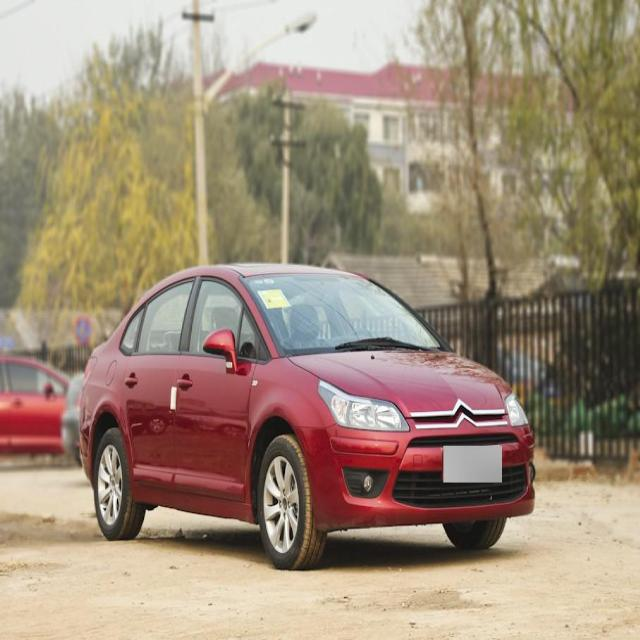back_right_side_light: (80, 350, 100, 405)
door: (126, 276, 194, 495)
front_bumper: (290, 415, 536, 528)
front_glass: (237, 272, 444, 359)
front_left_side_light: (503, 390, 529, 428)
front_right_side_door: (165, 258, 266, 522)
front_right_side_light: (316, 377, 412, 435)
front_right_side_mirror: (204, 322, 248, 381)
wheel: (254, 420, 330, 572), (93, 416, 146, 543)
